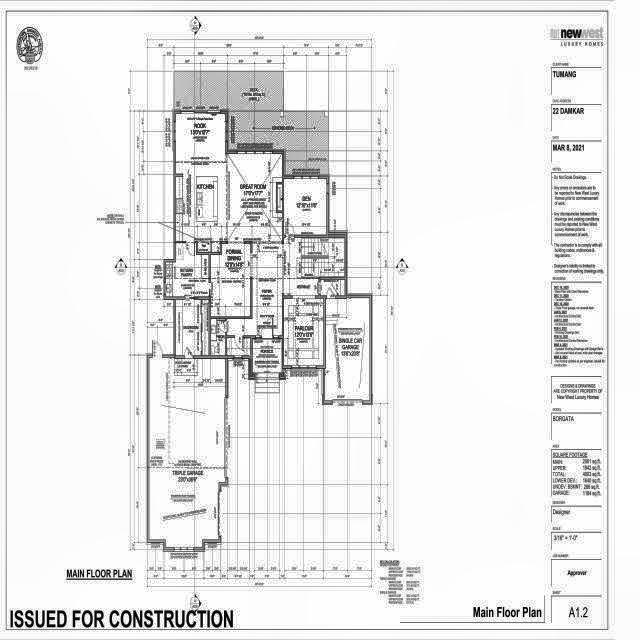room: (149, 358, 225, 547), (325, 298, 370, 401), (284, 179, 326, 235), (166, 243, 209, 297), (175, 299, 201, 356), (227, 337, 250, 356), (202, 299, 209, 356), (321, 280, 337, 296), (338, 280, 345, 296)
